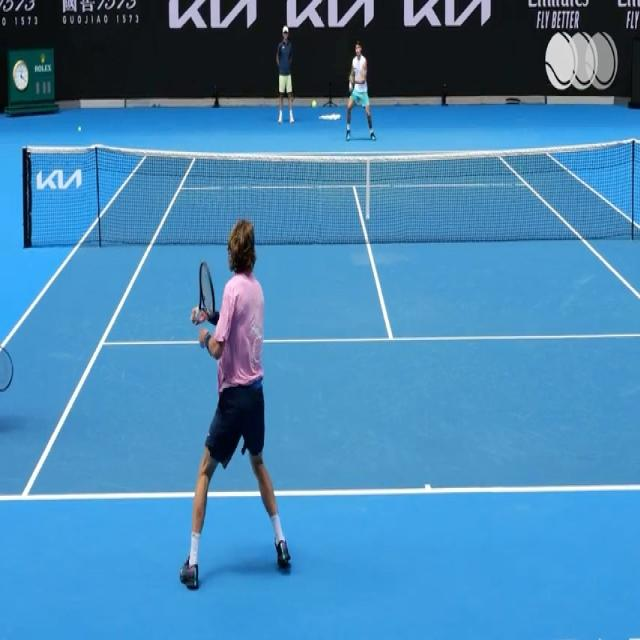forehand-finish: (180, 189, 304, 598)
